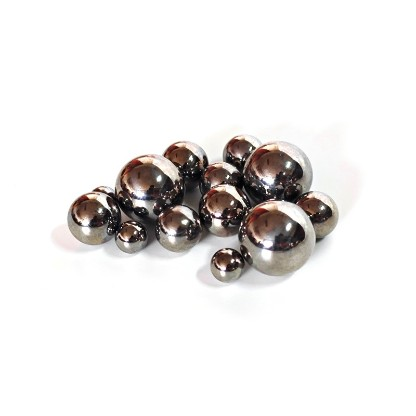ironball: (237, 199, 315, 276), (114, 153, 185, 223), (242, 140, 312, 203), (66, 191, 120, 244), (197, 183, 250, 237), (161, 139, 208, 190), (154, 203, 202, 252), (293, 190, 338, 238), (198, 160, 243, 195), (222, 133, 262, 172), (209, 247, 244, 282), (114, 219, 147, 253), (92, 185, 115, 200)
